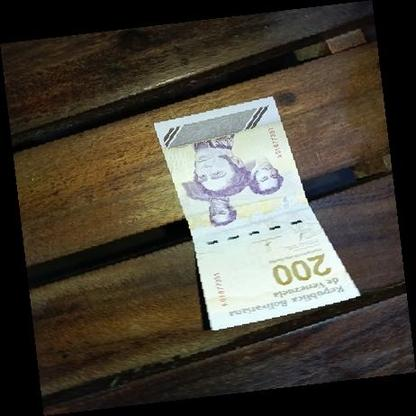two_hundred-front-vef: (153, 96, 360, 330)
